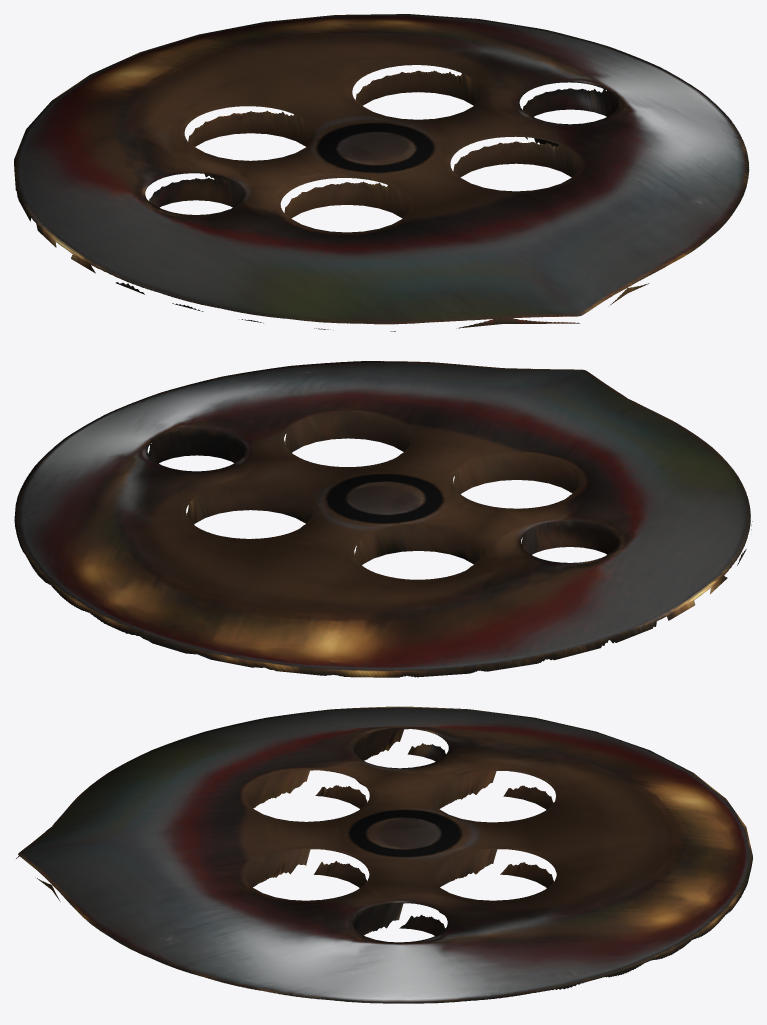
File: bumpskirt3.fbx
3 views of the same model, one above another, from view 1: azimuth 30°, elevation 25°; view 2: azimuth 150°, elevation 25°; view 3: azimuth 270°, elevation 25° (orthographic). The views are drawn at different scales.
Visible parts, largest first — view 1: bumpskirt3; view 2: bumpskirt3; view 3: bumpskirt3.
Part boxes in pixels (box(x1,y1,x2,y2)): bumpskirt3: box(14, 14, 749, 331); bumpskirt3: box(14, 361, 752, 677); bumpskirt3: box(16, 706, 752, 1003).
Size of the model in its own units: 6.03 by 0.2384 by 6.29.
1 material, 1 textured.
